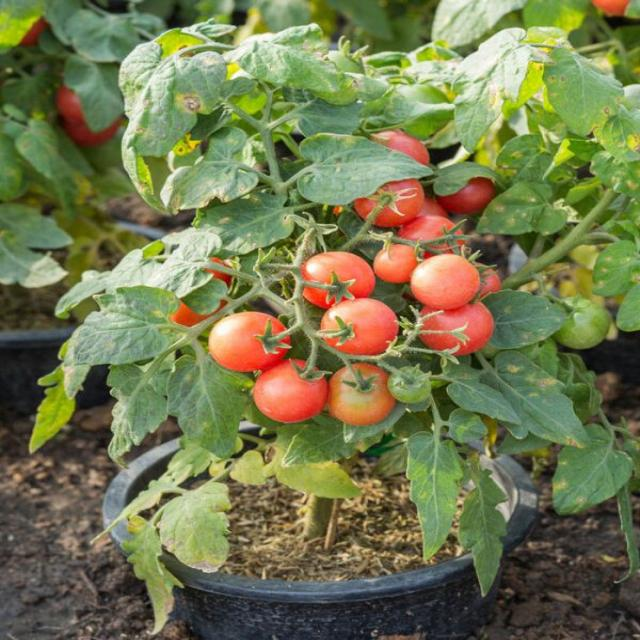level 2: (390, 366, 433, 402)
level 4: (326, 363, 395, 421)
level 6: (253, 355, 329, 426), (293, 250, 378, 312), (158, 252, 228, 326), (208, 312, 290, 369), (321, 298, 401, 356), (406, 254, 485, 312), (346, 170, 427, 225), (420, 298, 494, 357), (363, 128, 434, 186), (55, 69, 126, 121), (69, 98, 134, 152), (440, 256, 506, 304), (435, 167, 495, 216), (0, 0, 52, 50), (372, 243, 422, 280), (587, 0, 640, 22)
